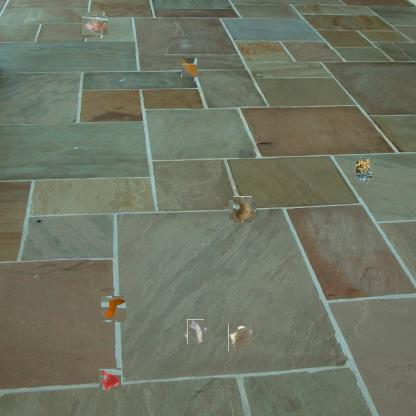dirty: (228, 324, 254, 351), (101, 297, 125, 321), (231, 198, 254, 222), (84, 13, 106, 37), (185, 321, 206, 342), (356, 160, 374, 184)
liquid: (100, 368, 122, 390), (181, 57, 197, 77)
